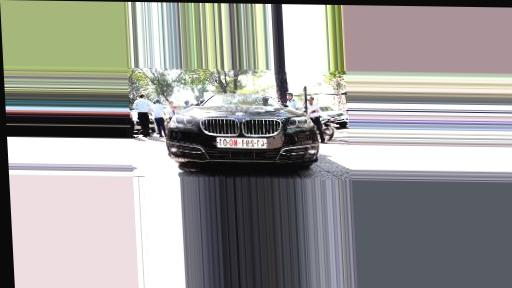License_Plate: (217, 138, 267, 148)
